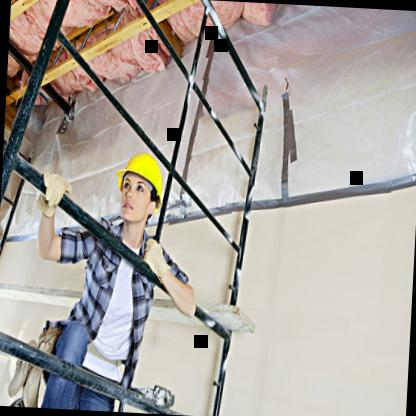helmet: (111, 143, 170, 232)
